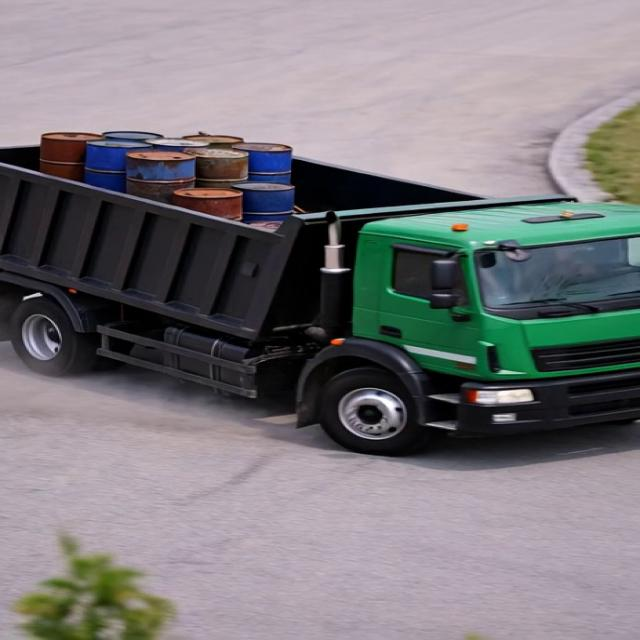trailer: (0, 132, 521, 224)
truck: (0, 83, 640, 432)
